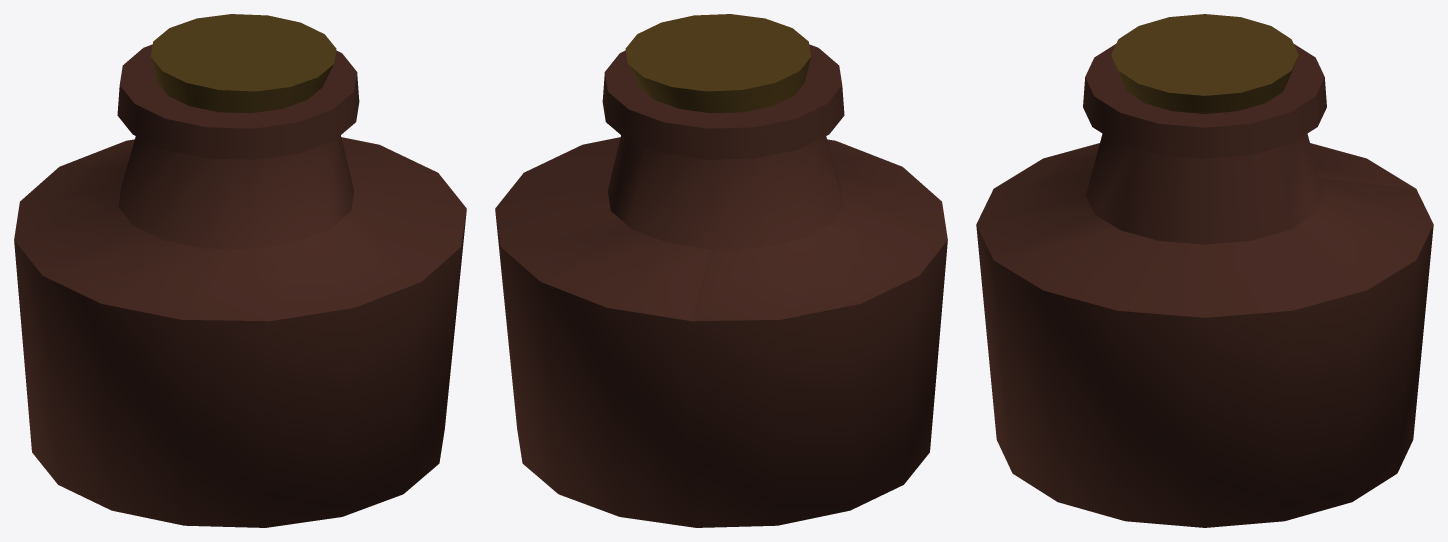
File: bottle.glb
3 renders of one model, left to right at view 1: azimuth 30°, elevation 25°; view 2: azimuth 150°, elevation 25°; view 3: azimuth 270°, elevation 25°, orthographic.
Visible parts, largest first — view 1: Bottle_1; view 2: Bottle_1; view 3: Bottle_1.
Boxes of the visible parts, left/top/right/bottom form: Bottle_1: left=14, top=14, right=466, bottom=527; Bottle_1: left=495, top=14, right=947, bottom=527; Bottle_1: left=976, top=14, right=1433, bottom=527.
Bounding box in the file's own units: 1 × 1 × 1.
